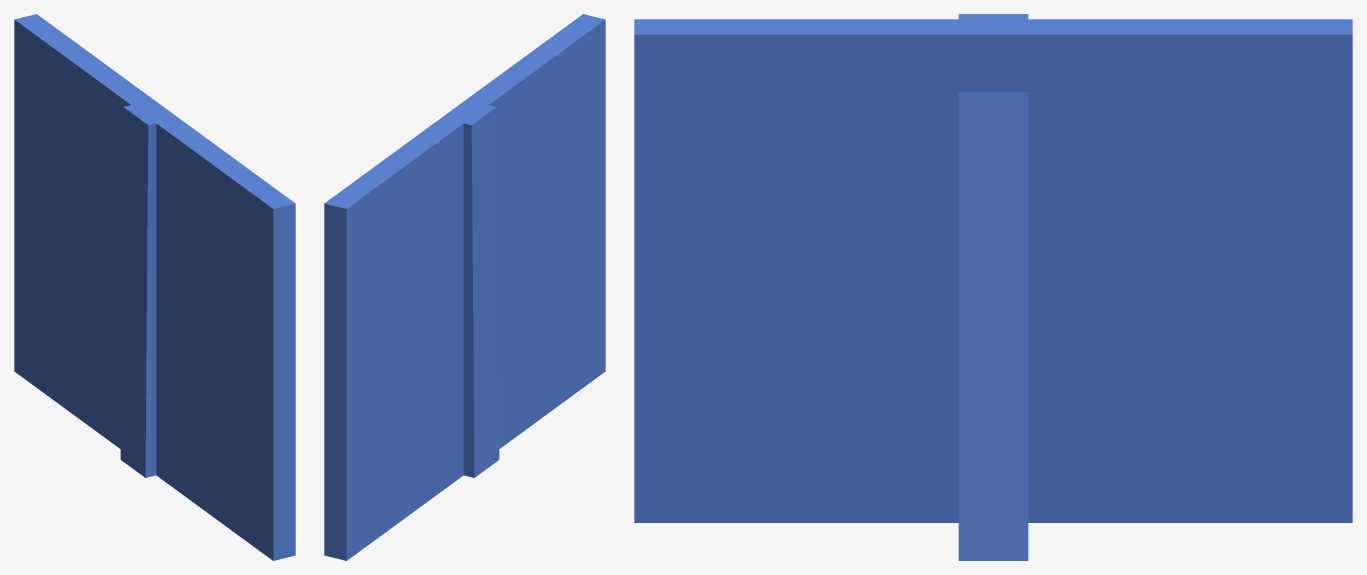
Rendered from WallAstra_Straight_Divided_Collision.fbx.
3 renders of one model, left to right at view 1: azimuth 30°, elevation 25°; view 2: azimuth 150°, elevation 25°; view 3: azimuth 270°, elevation 25°, orthographic. The views are drawn at different scales.
Parts seen in each view (by area): view 1: WallAstra_Straight_Divided_Collision; view 2: WallAstra_Straight_Divided_Collision; view 3: WallAstra_Straight_Divided_Collision.
Boxes of the visible parts, x1,y1,x2,y2 form: WallAstra_Straight_Divided_Collision: (14,14,295,560); WallAstra_Straight_Divided_Collision: (324,14,605,560); WallAstra_Straight_Divided_Collision: (634,14,1352,560).
Bounding box in the file's own units: 79.61 × 300 × 400.
